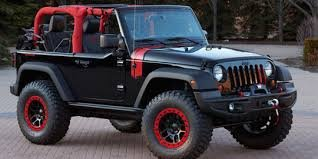mobil: (14, 3, 294, 153)
